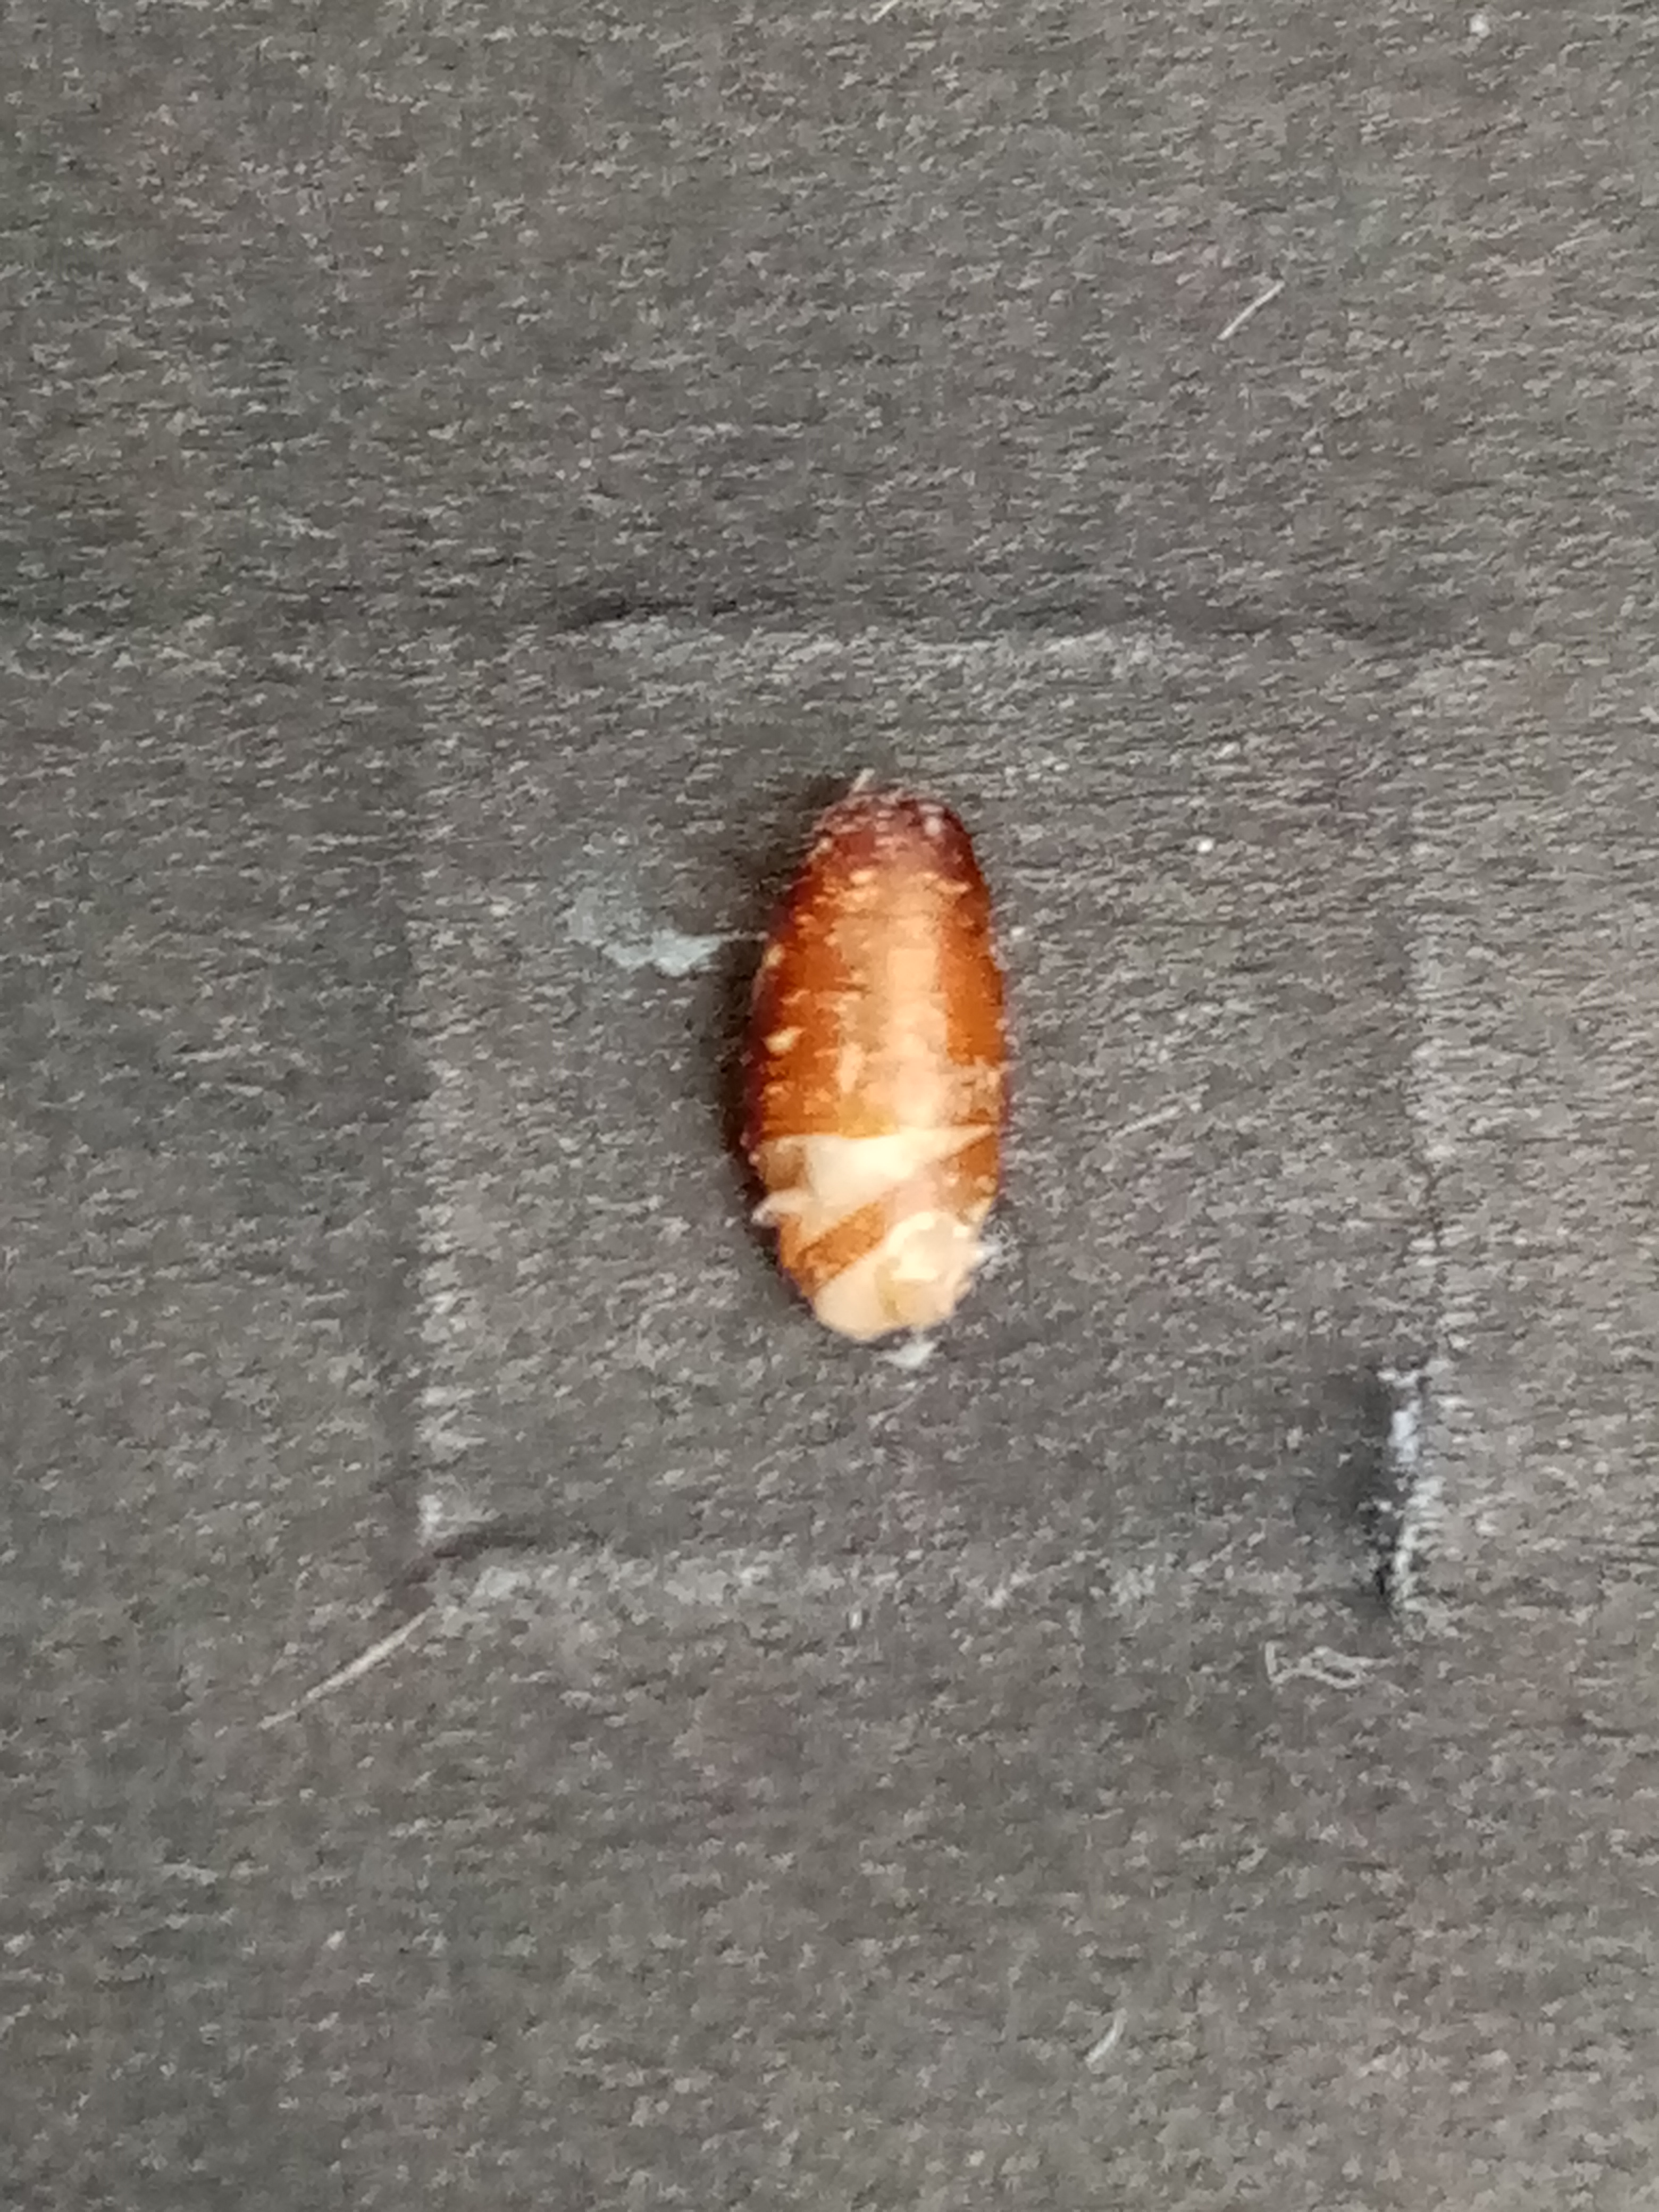pupa: (756, 1190, 997, 1341)
